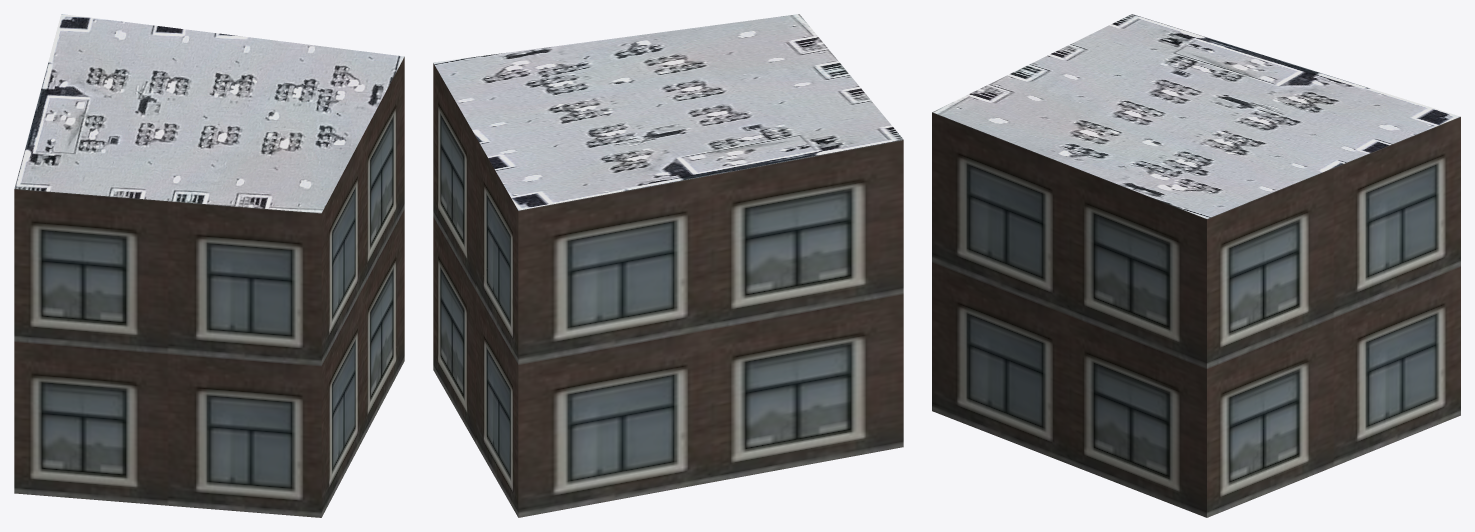
File: ResTex__2273.fbx
3 views of the same model, side by side, from view 1: azimuth 30°, elevation 25°; view 2: azimuth 150°, elevation 25°; view 3: azimuth 270°, elevation 25° (orthographic). The views are drawn at different scales.
Visible parts, largest first — view 1: CityEngineMaterial_16_m, CityEngineMaterial_15_m; view 2: CityEngineMaterial_16_m, CityEngineMaterial_15_m; view 3: CityEngineMaterial_16_m, CityEngineMaterial_15_m.
Boxes of the visible parts, box(x1,y1,x2,y2) form: CityEngineMaterial_16_m: box(14, 57, 404, 517); CityEngineMaterial_15_m: box(14, 14, 404, 213); CityEngineMaterial_16_m: box(433, 63, 903, 517); CityEngineMaterial_15_m: box(433, 14, 903, 210); CityEngineMaterial_16_m: box(932, 112, 1460, 517); CityEngineMaterial_15_m: box(932, 14, 1460, 218).
Bounding box in the file's own units: 8.83 × 6 × 9.62.
2 materials, 2 textured.
